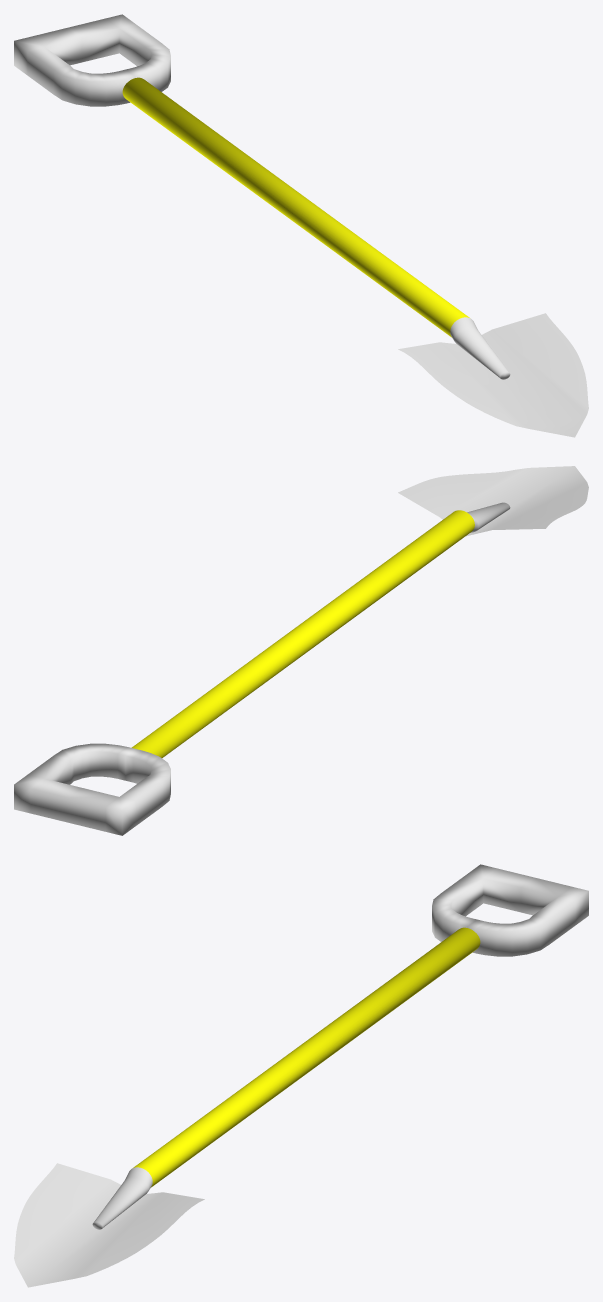
File: shovel.fbx
The picture shows the model from 3 angles, top to bottom: view 1: azimuth 30°, elevation 25°; view 2: azimuth 150°, elevation 25°; view 3: azimuth 330°, elevation 25°; orthographic projection.
Visible parts, largest first — view 1: Cube; view 2: Cube; view 3: Cube.
Part boxes in pixels (box(x1,y1,x2,y2)): Cube: box(14, 14, 588, 437); Cube: box(14, 466, 588, 835); Cube: box(14, 864, 588, 1287).
Bounding box in the file's own units: 573 × 145 × 3394.
